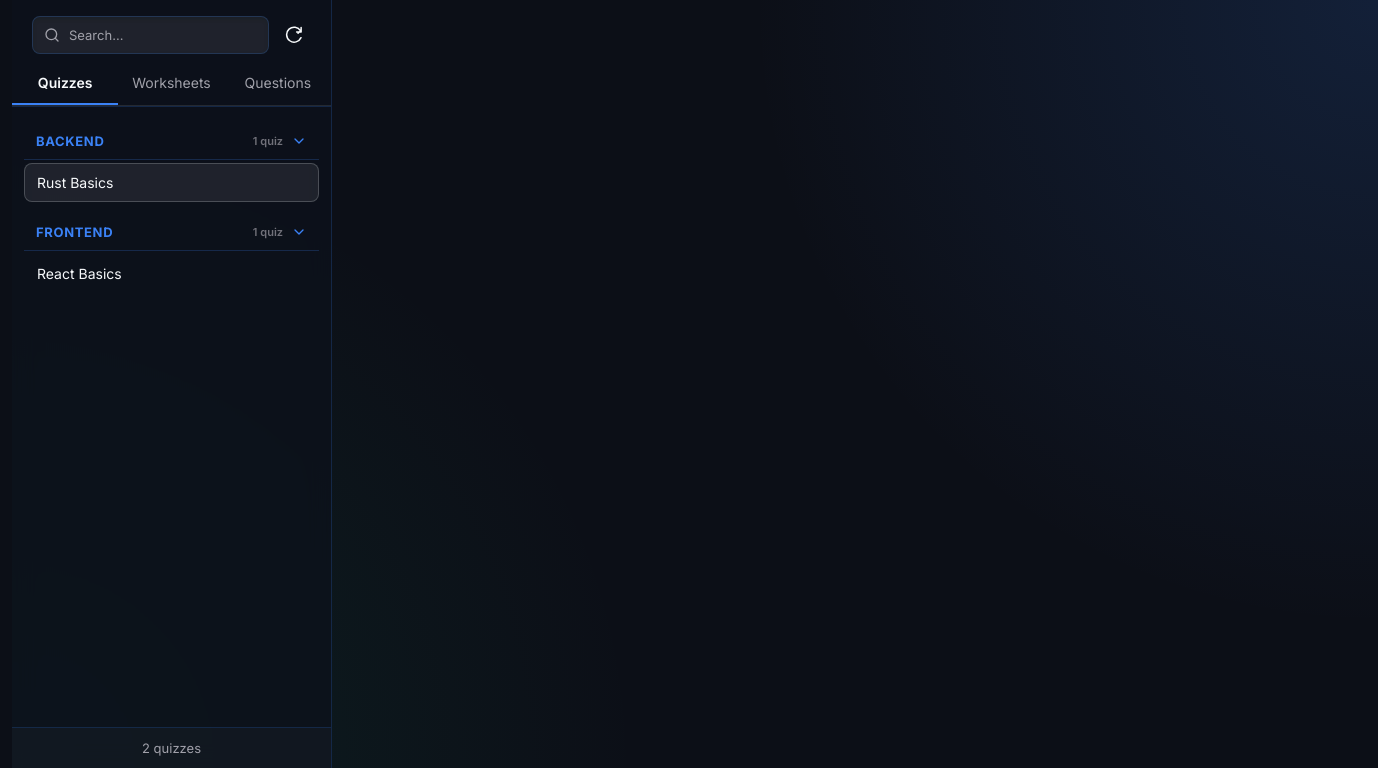
Sidebar Component › shows topic counts and collapses a topic group
Step 1. Click the button "Frontend 1 quiz" → coordinates (75, 232), box x1=24 y1=214 x2=319 y2=251
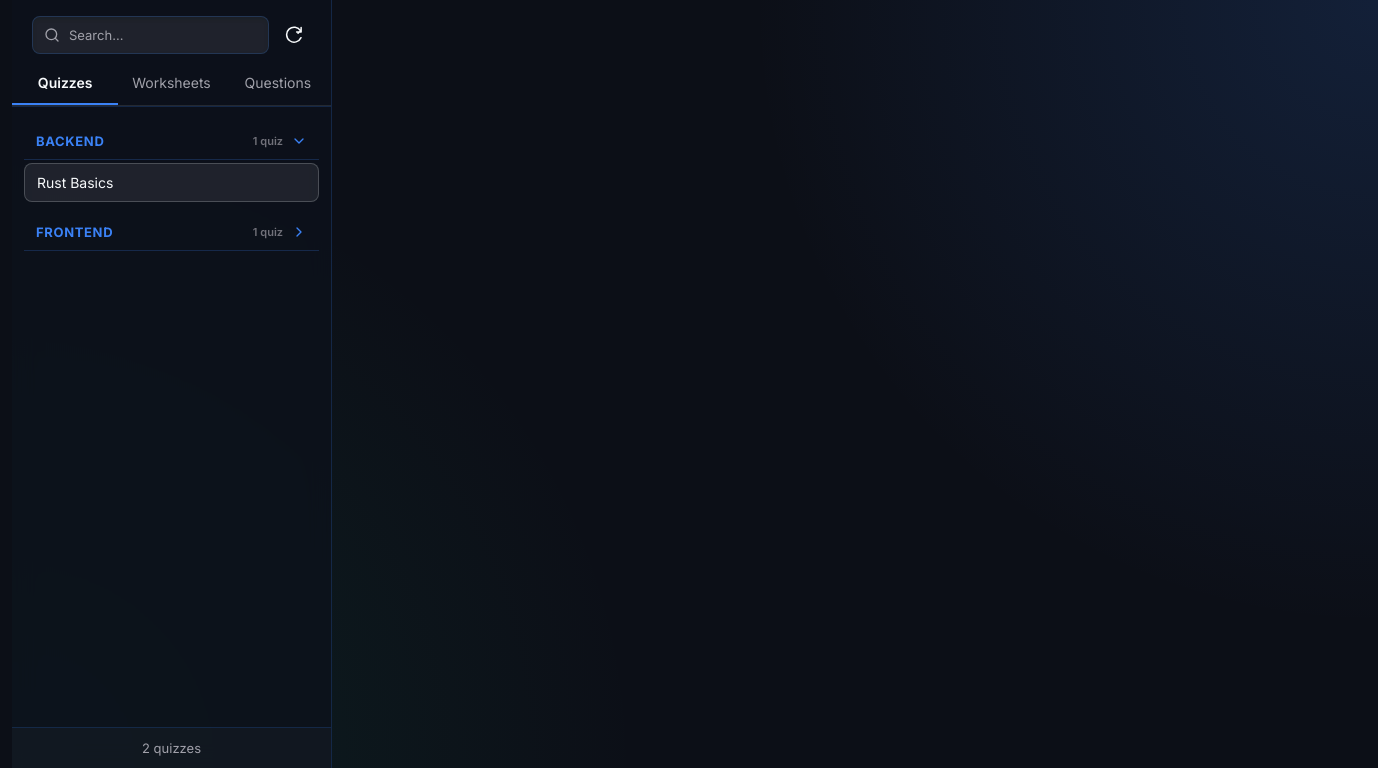
Expected: the button "Rust Basics" is shown, x1=24 y1=163 x2=319 y2=202
Expected: the button "Frontend 1 quiz" is collapsed, x1=24 y1=214 x2=319 y2=251
Expected: the button "React Basics" is gone
